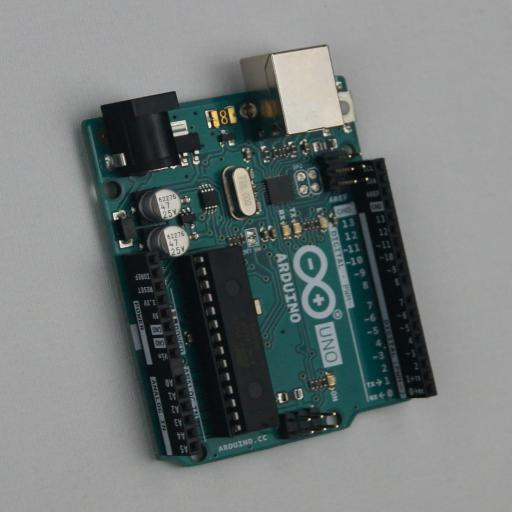Arduino Uno -Green-: (75, 44, 437, 468)
